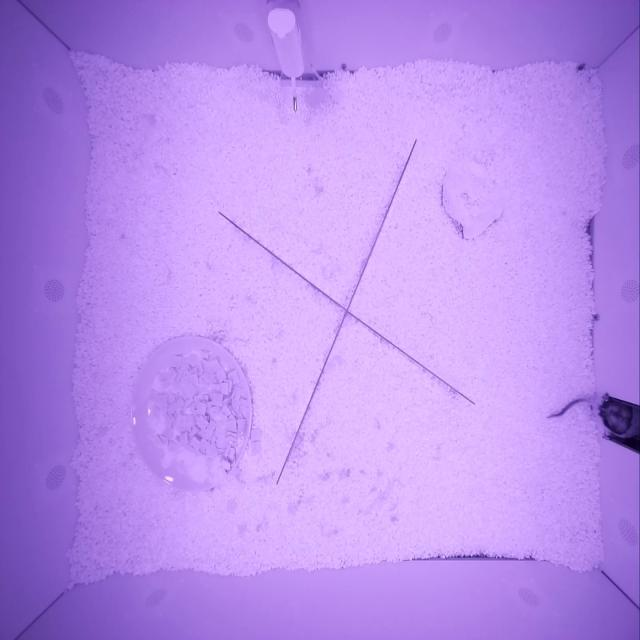adult_back: (592, 395, 640, 439)
